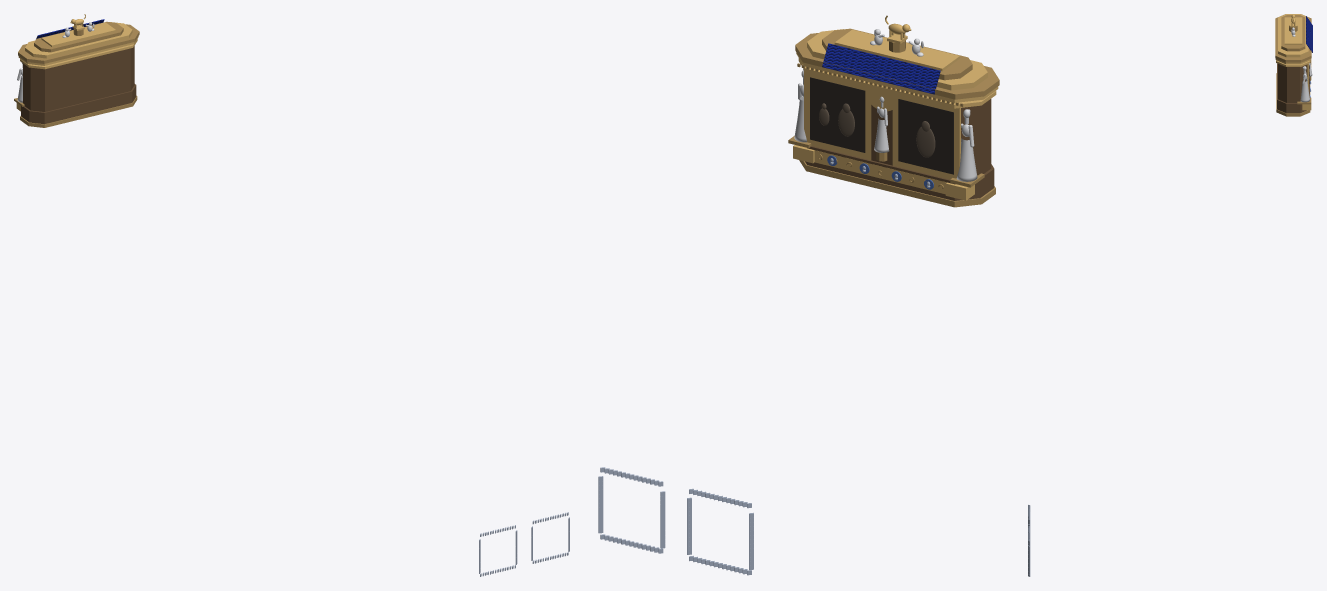
The model's file is scan-fig54-elkington-jewel-cabinet-muse.glb.
3 views of the same model, side by side, from view 1: azimuth 30°, elevation 25°; view 2: azimuth 150°, elevation 25°; view 3: azimuth 270°, elevation 25° (orthographic). The views are drawn at different scales.
Parts seen in each view (by area): view 1: Body_Carcass, Plinth_Body, Roof_Step1, Roof_Step2, Roof_Step3, Roof_TopPlateau; view 2: PanelAlbert_Panel, PanelVictoria_Panel, Roof_BlueScalePanel, Body_Carcass, Roof_TopPlateau, Plinth_Body, PanelAlbert_FrameOuter, PanelVictoria_FrameOuter, Plinth_Foot, Plinth_Frieze, Roof_Step1, Roof_Step2 (+4 smaller); view 3: Body_Carcass, Roof_TopPlateau, Roof_Step3, Roof_Step2, Roof_Step1.
Part boxes in pixels (box(x1,y1,x2,y2)): Body_Carcass: box(23, 46, 134, 111); Plinth_Body: box(21, 84, 136, 124); Roof_Step1: box(18, 24, 139, 63); Roof_Step2: box(25, 22, 132, 58); Roof_Step3: box(34, 21, 123, 52); Roof_TopPlateau: box(41, 22, 115, 46); PanelAlbert_Panel: box(898, 99, 953, 174); PanelVictoria_Panel: box(810, 77, 865, 152); Roof_BlueScalePanel: box(822, 43, 940, 94); Body_Carcass: box(803, 69, 991, 175); Roof_TopPlateau: box(834, 29, 959, 71); Plinth_Body: box(805, 146, 994, 200); PanelAlbert_FrameOuter: box(892, 94, 960, 179); PanelVictoria_FrameOuter: box(804, 70, 871, 160); Plinth_Foot: box(799, 160, 995, 207); Plinth_Frieze: box(814, 150, 946, 194); Roof_Step1: box(795, 33, 999, 99); Roof_Step2: box(807, 29, 987, 90); Body_Carcass: box(1278, 64, 1307, 102); Roof_TopPlateau: box(1284, 17, 1302, 44); Roof_Step3: box(1281, 15, 1305, 51); Roof_Step2: box(1278, 14, 1308, 57); Roof_Step1: box(1275, 14, 1311, 62).
Bounding box in the file's own units: 6.46 × 7.99 × 4.85.
Materials: 9 (1 with a texture image).
